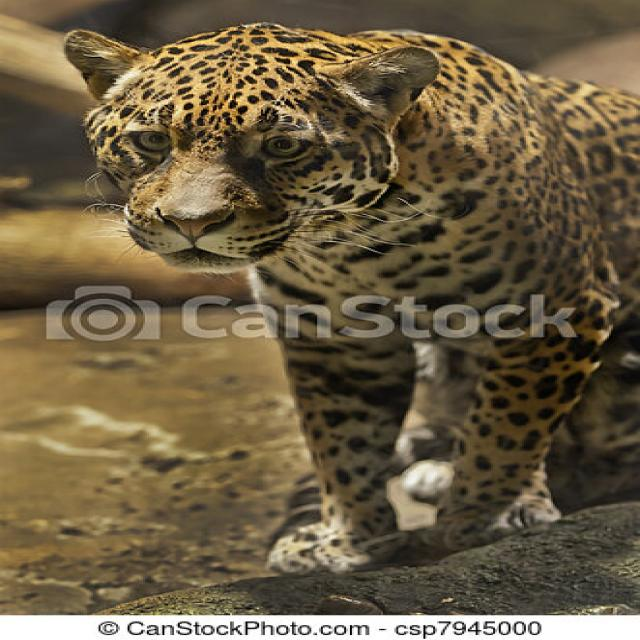Jaguar: (58, 20, 640, 579)
